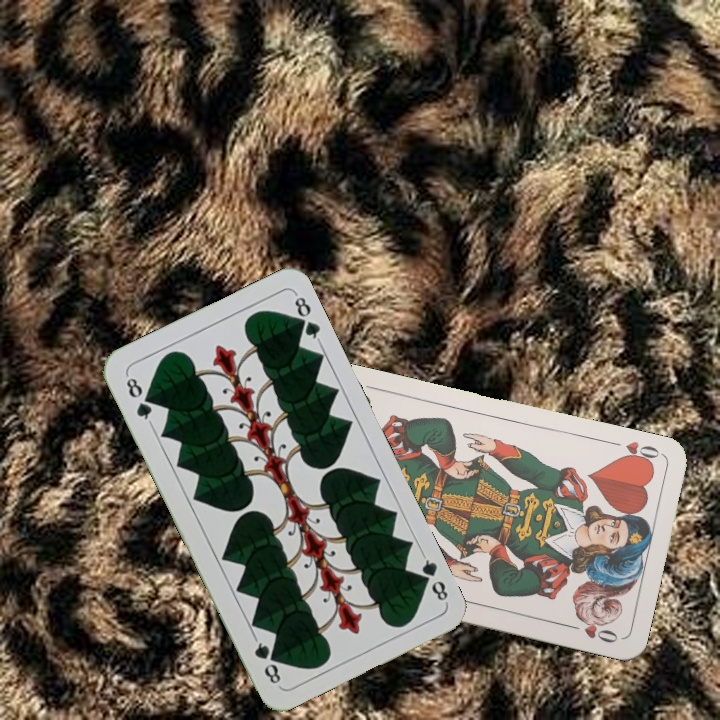G8: (413, 550, 451, 604), (122, 371, 155, 426)
HO: (606, 437, 664, 468)
